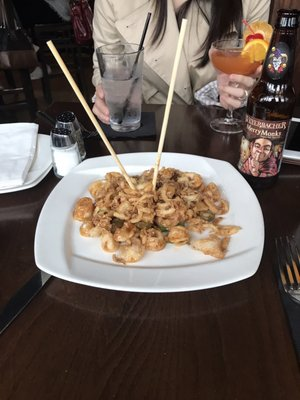burger: (275, 234, 300, 307)
pizza: (95, 42, 144, 133)
